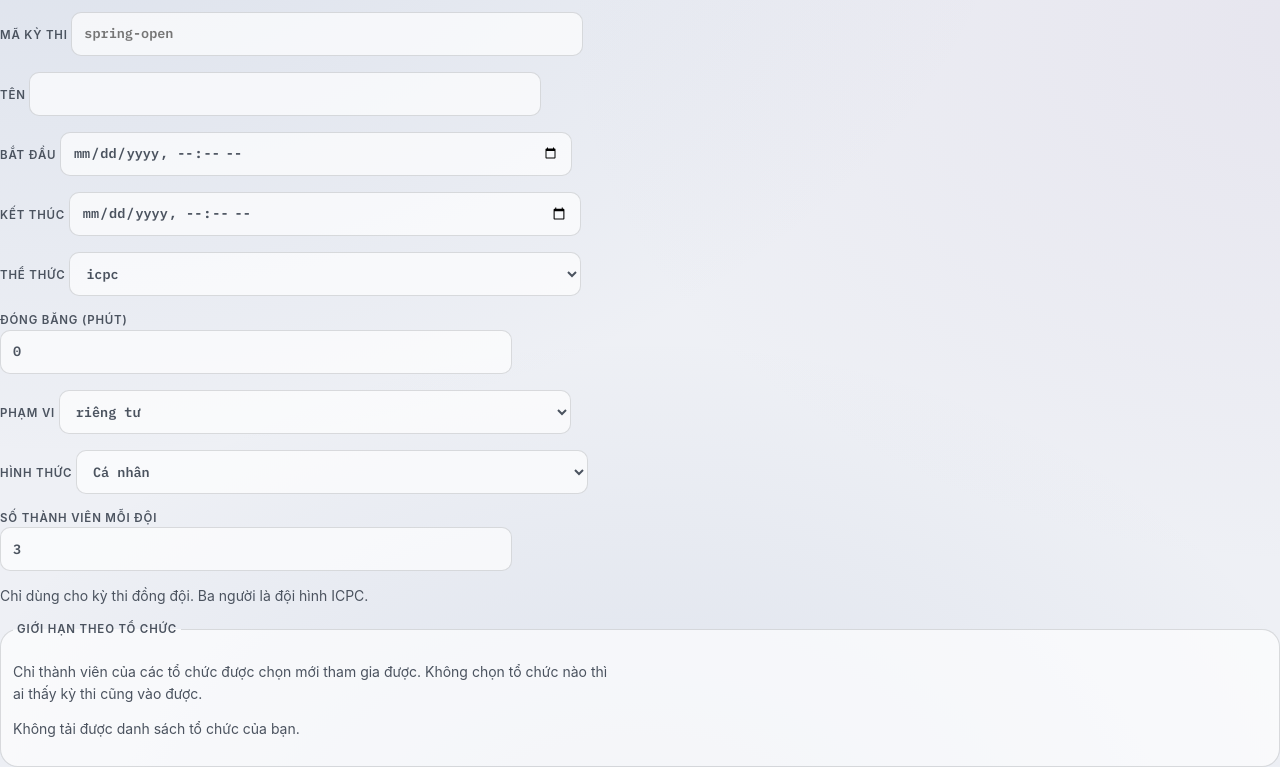
Test case: ContestNewPage — the form teaches, and keeps what was typed › puts the server's 422 on the field the server named (D146)
Step 1. Type "spring" into the field labelled "Mã kỳ thi" → (327, 34), box [71, 12, 583, 56]
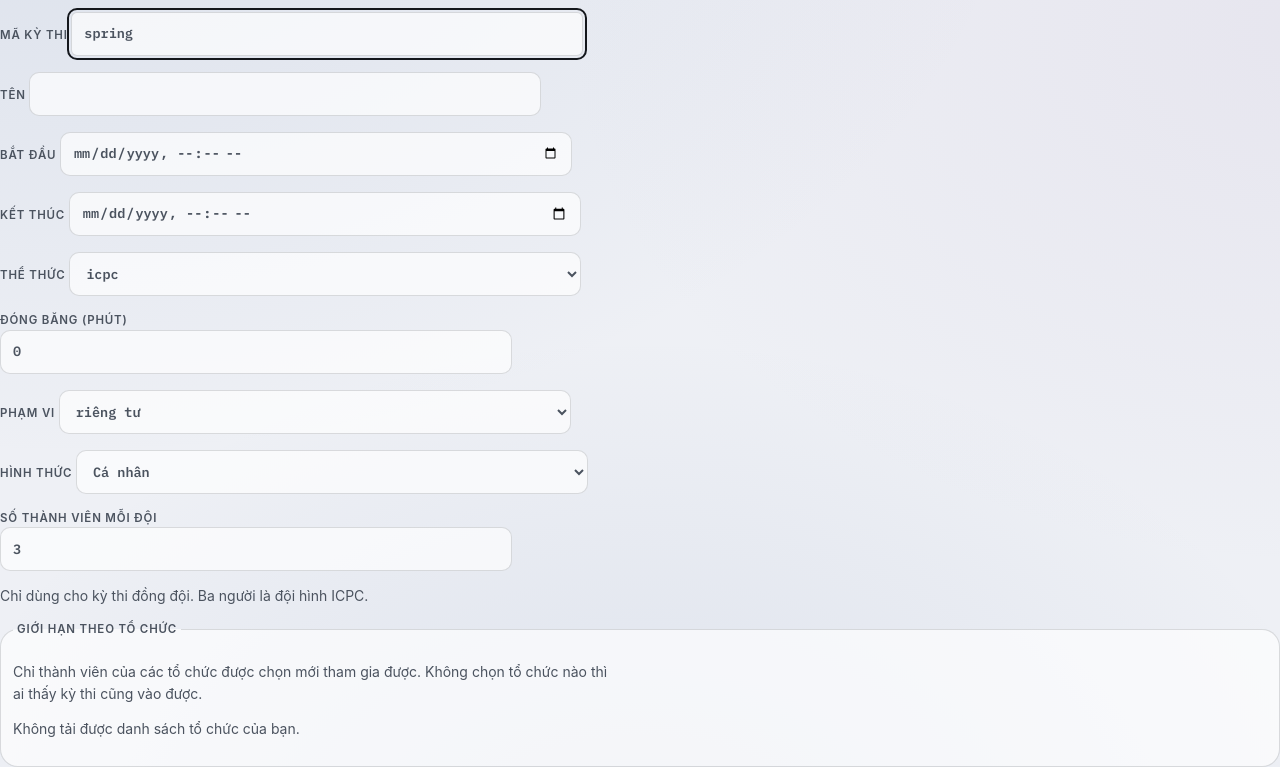
Step 2. Type "Spring Open" into the field labelled "Tên" → (285, 94), box [29, 72, 541, 116]
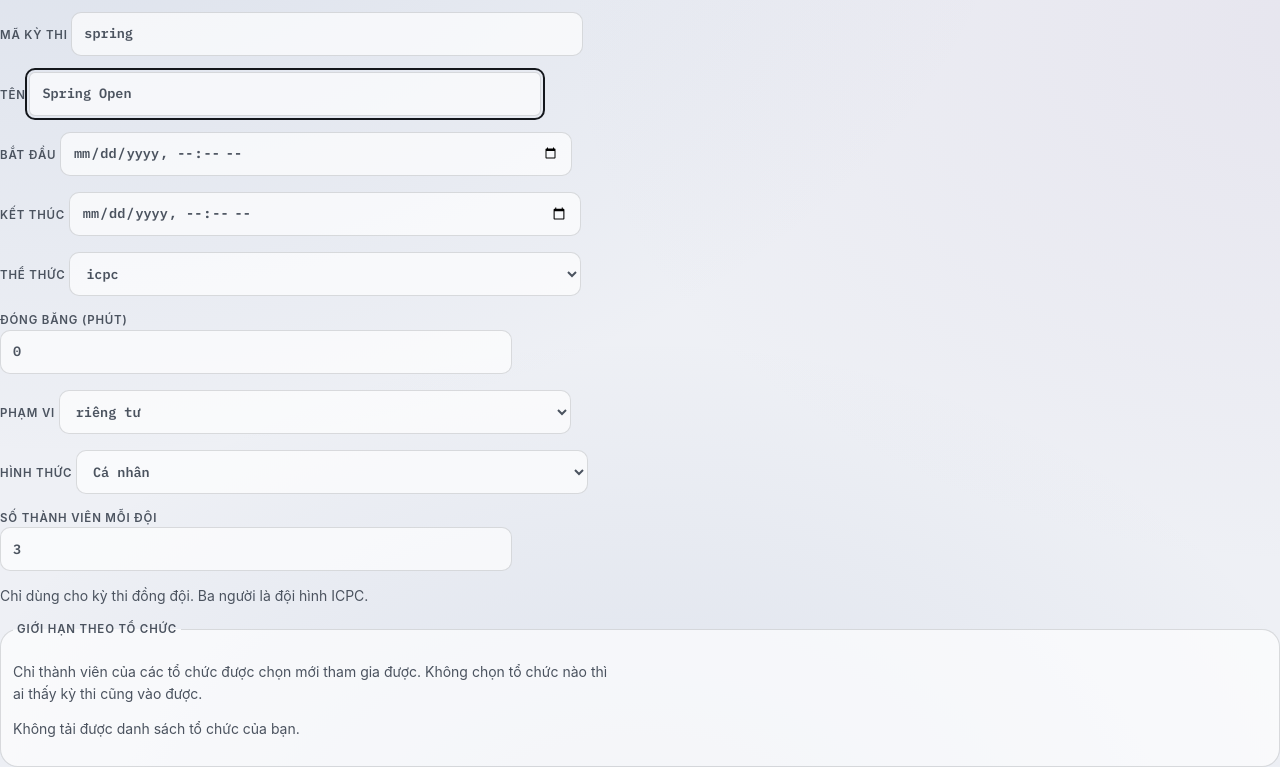
Step 3. Type "2026-09-01T09:00" into the field labelled "Bắt đầu" → (316, 154), box [60, 132, 572, 176]
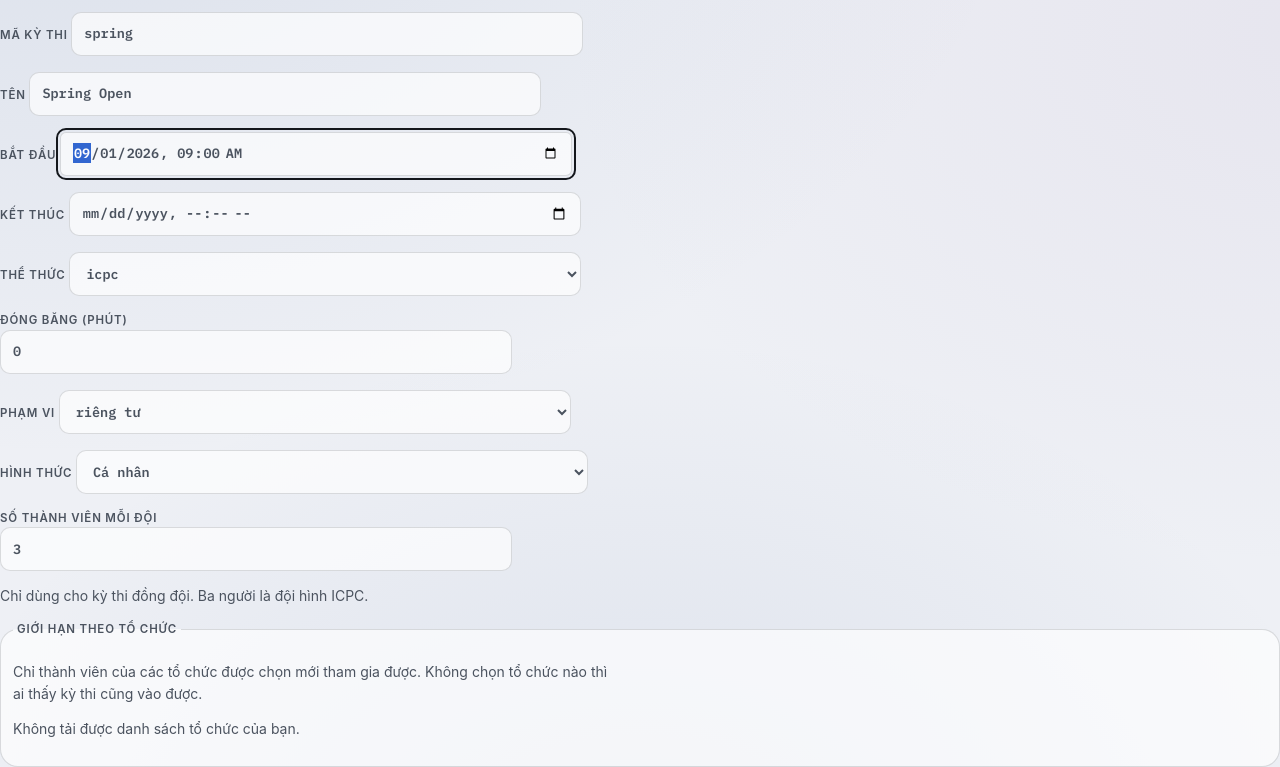
Step 4. Type "2026-09-01T14:00" into the field labelled "Kết thúc" → (325, 214), box [69, 192, 581, 236]
(page scrolled)
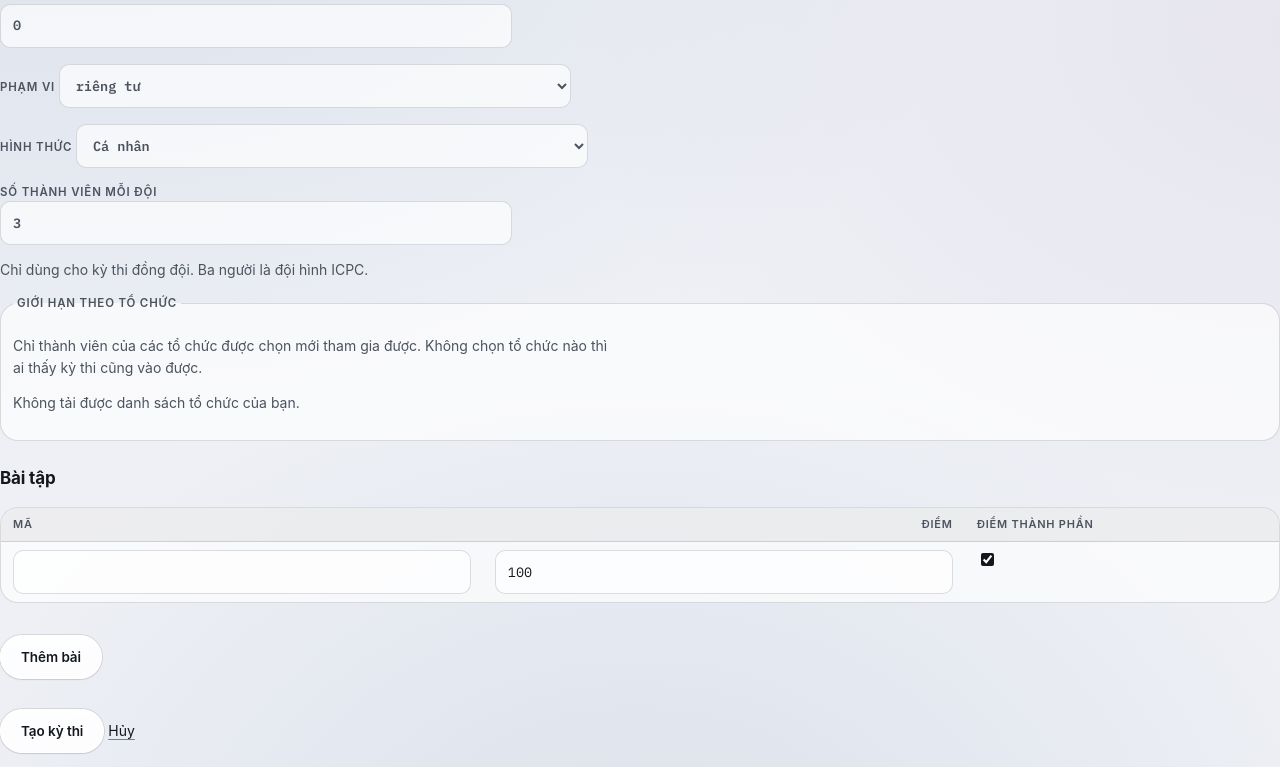
Step 5. Type "aplusb" into the field named "Mã bài 1" → (242, 572), box [13, 550, 471, 594]
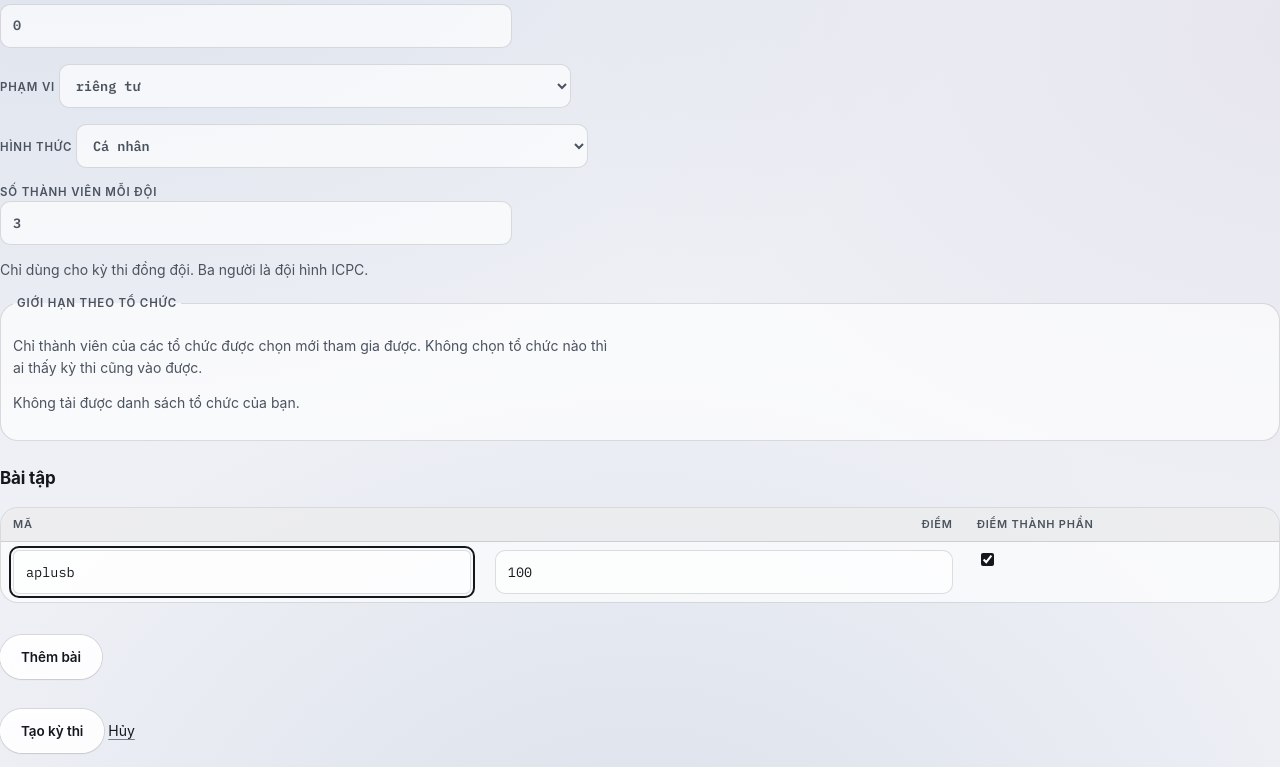
Step 6. Click the button "Tạo kỳ thi" → (52, 731), box [0, 709, 104, 753]
(page scrolled)
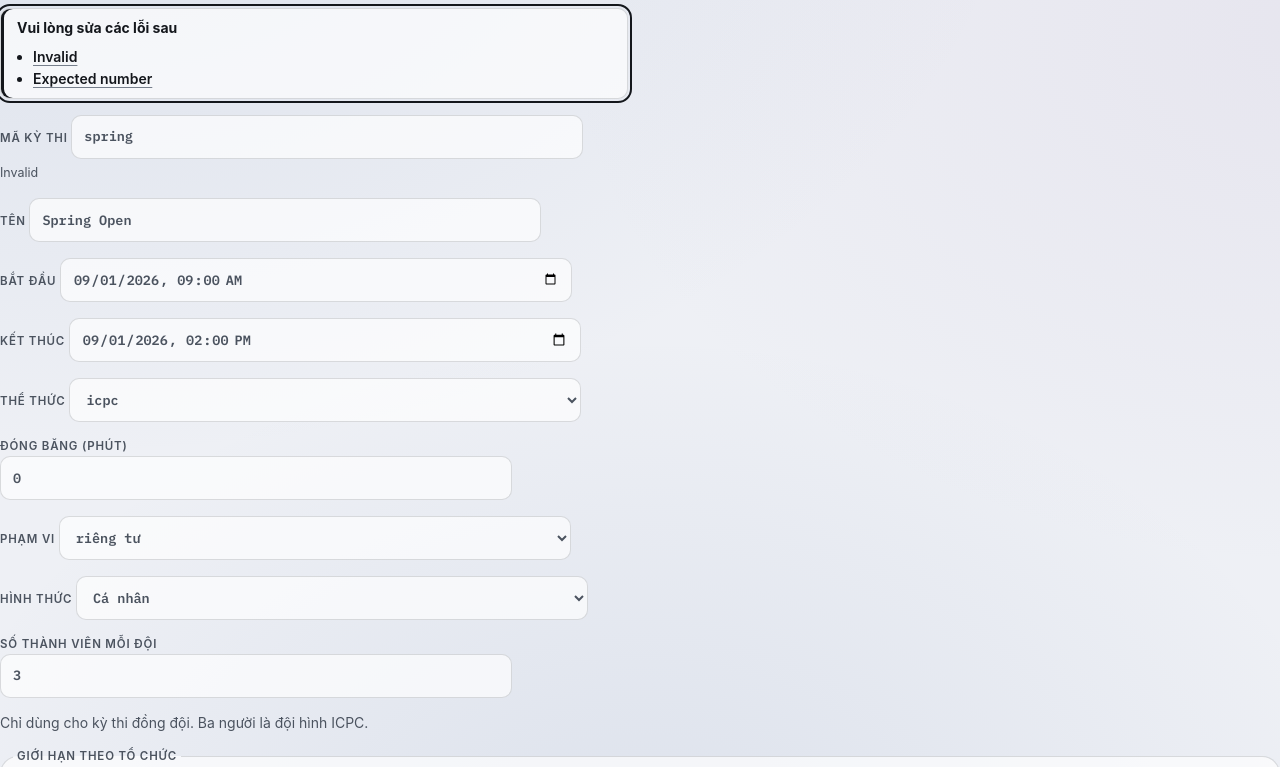
Expected: the text "Invalid" is shown, [0, 165, 38, 180]
Expected: the message shows "Expected number", [33, 70, 152, 87]
